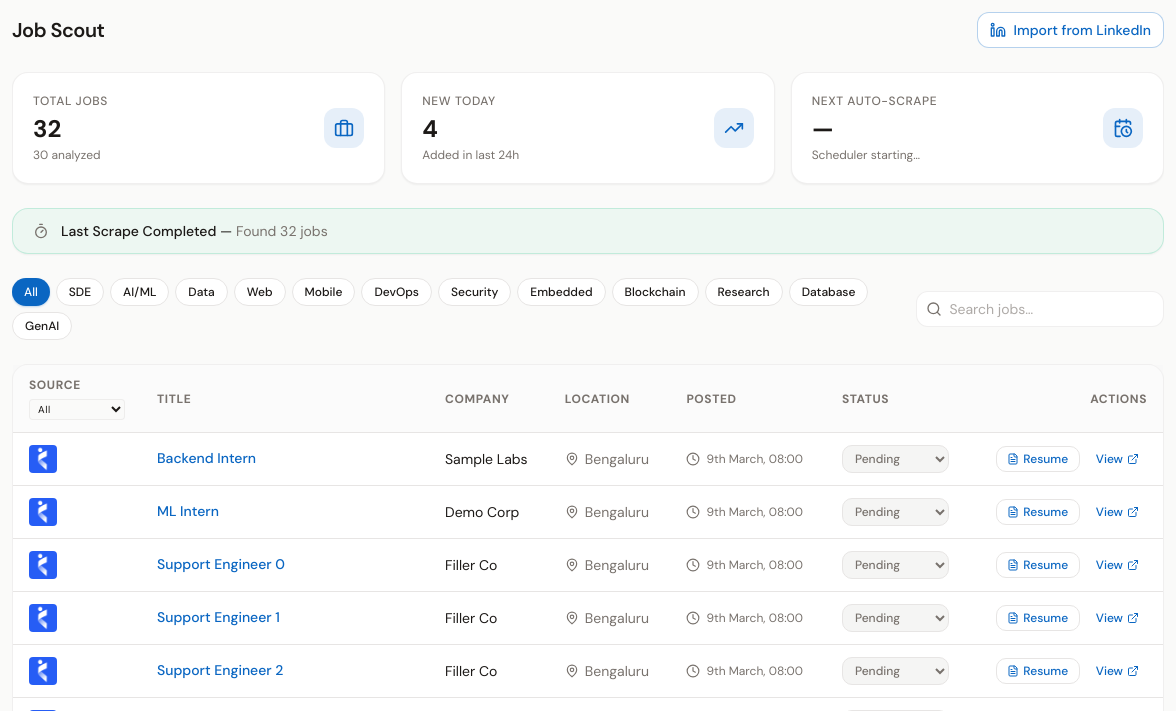
JobScoutShell › searches by company and reports when nothing matches
Expected: the button "Backend Intern" is shown, [157,450,256,468]
Step 1. Type "demo" into the field with placeholder "Search jobs…" → point(1040, 309), box [916,291,1164,327]
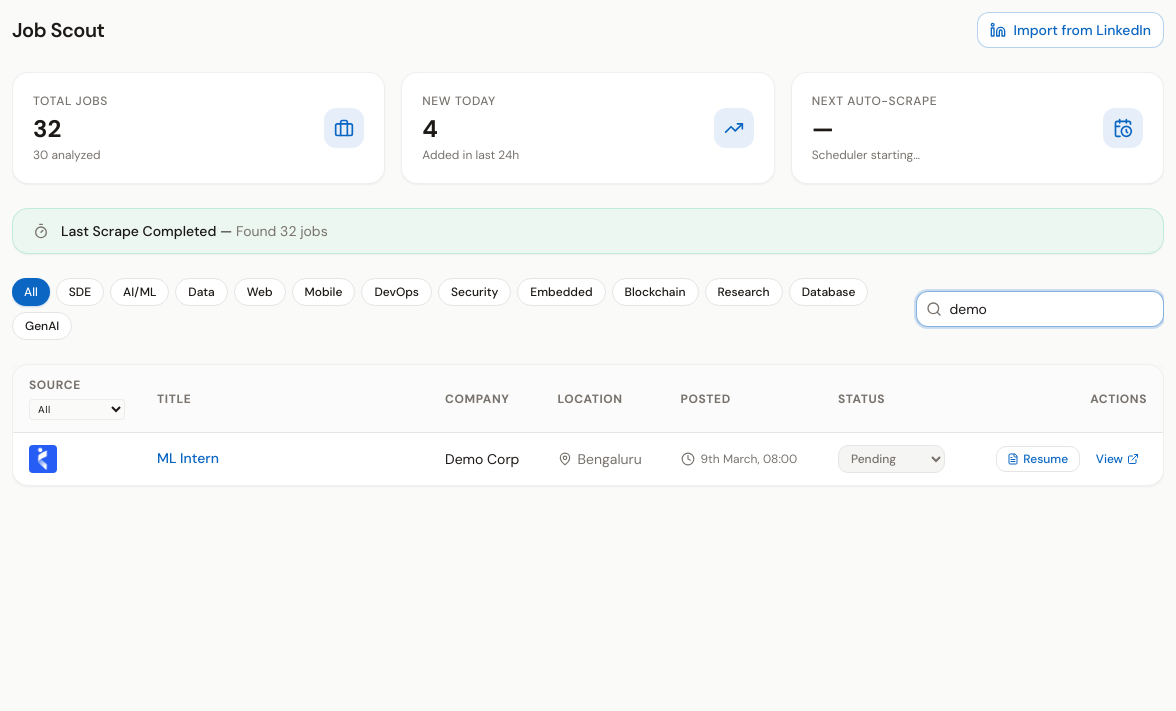
Expected: the number of rows is 2, [13,365,1163,432]; [13,432,1163,485]
Step 2. Type "zzz" into the field with placeholder "Search jobs…" → point(1040, 309), box [916,291,1164,327]
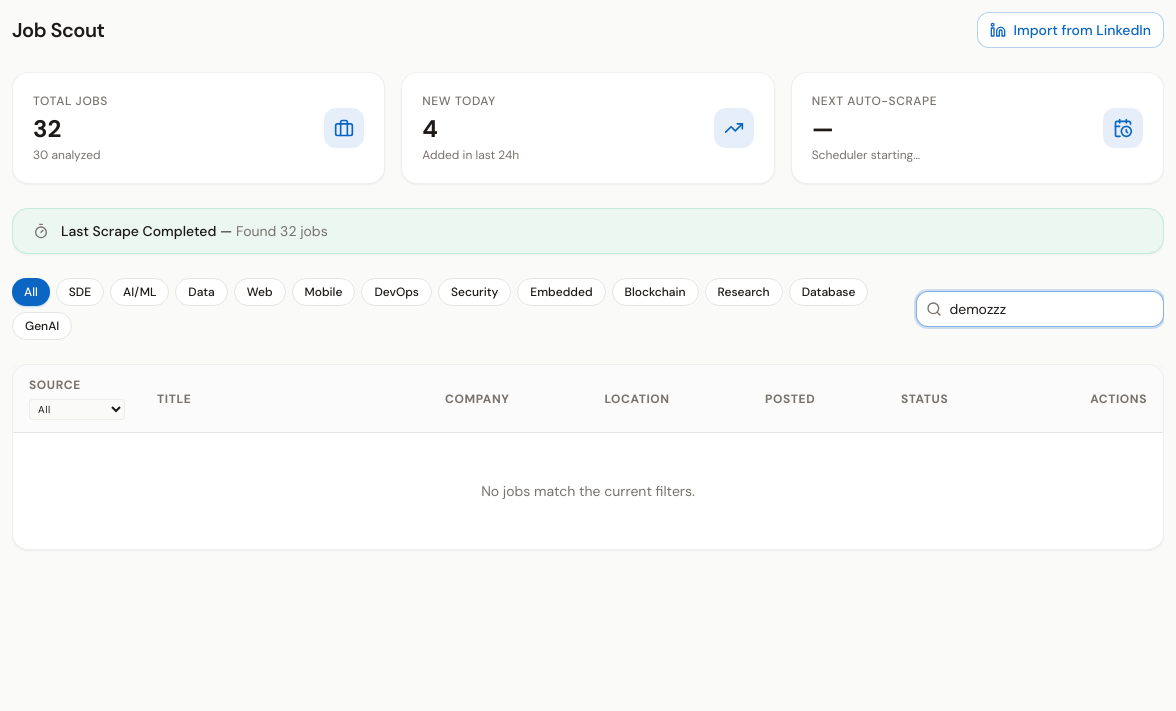
Expected: the text "No jobs match the current filters." is shown, [13,432,1163,549]
